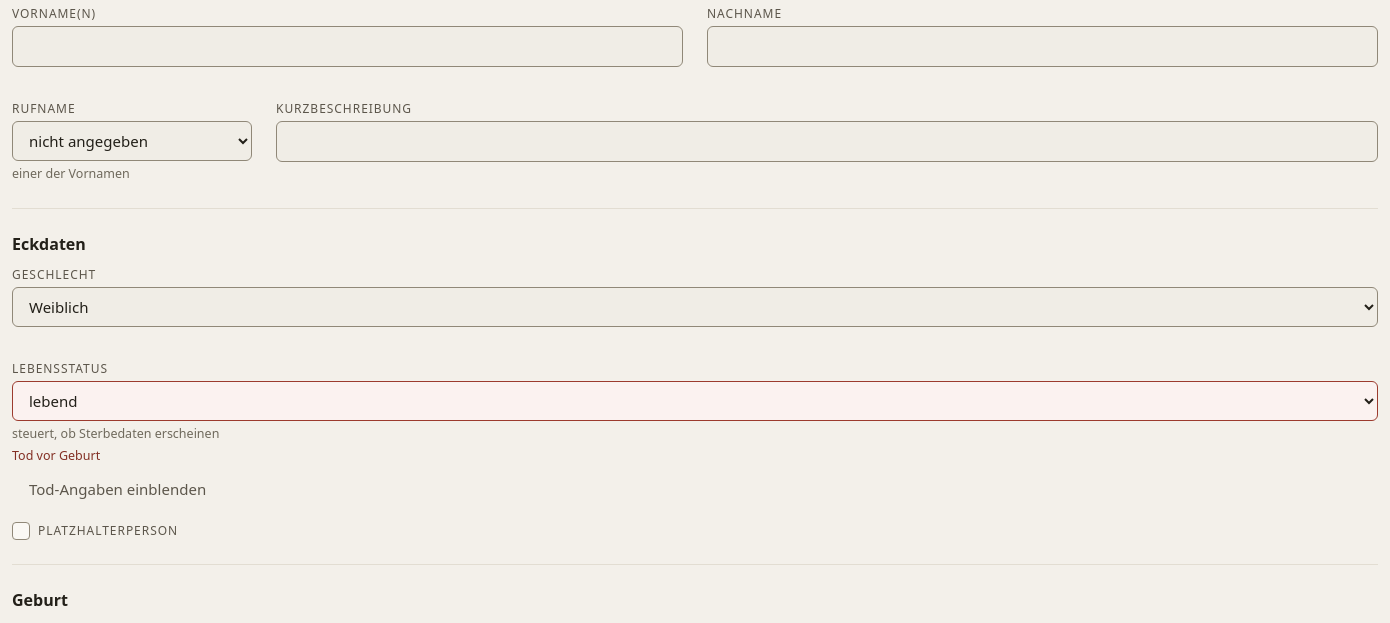
Test: ReiterPerson (AP-1.30 PR 9b) › Feldwarnungen (D7, E6) › Tod-Gruppe ausgeblendet: Warnung am Lebensstatus mit „Tod-Angaben einblenden"
Expected: the element that starts with "Eckdaten" shows "Tod vor Geburt", [12,447,100,464]
Click the button "Tod-Angaben einblenden".
click(118, 490)  # box [12,469,223,510]
(page scrolled)
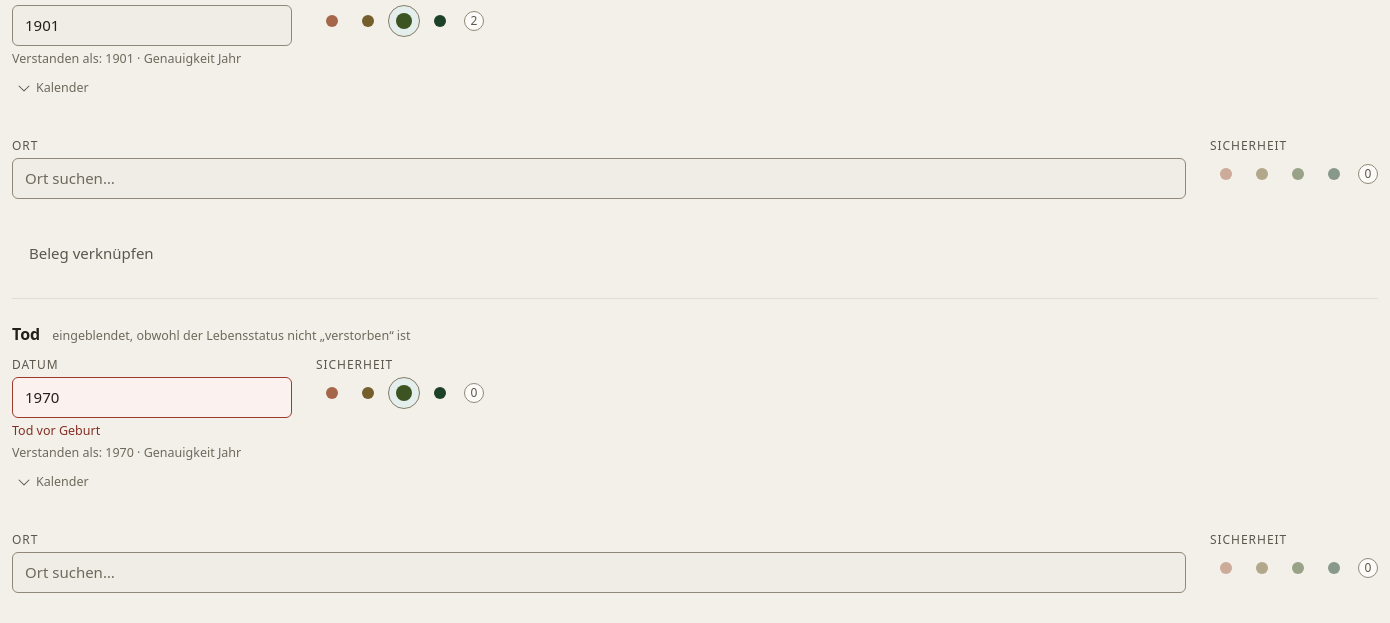
Now the element that starts with "Tod" shows "Tod vor Geburt", box [12,422,100,439]
Now the heading no longer shows "Tod vor Geburt"
